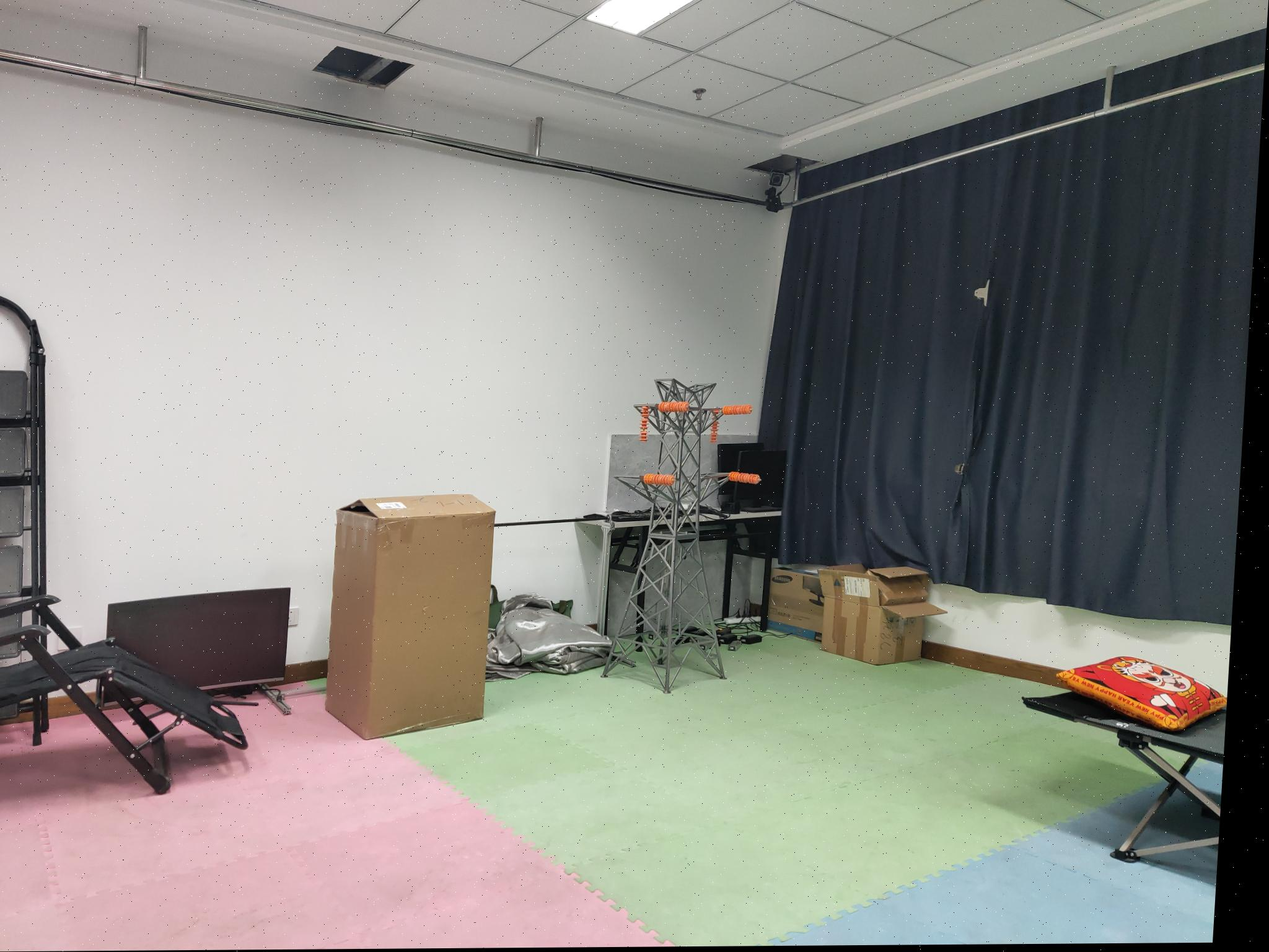tower: (603, 378, 741, 687)
